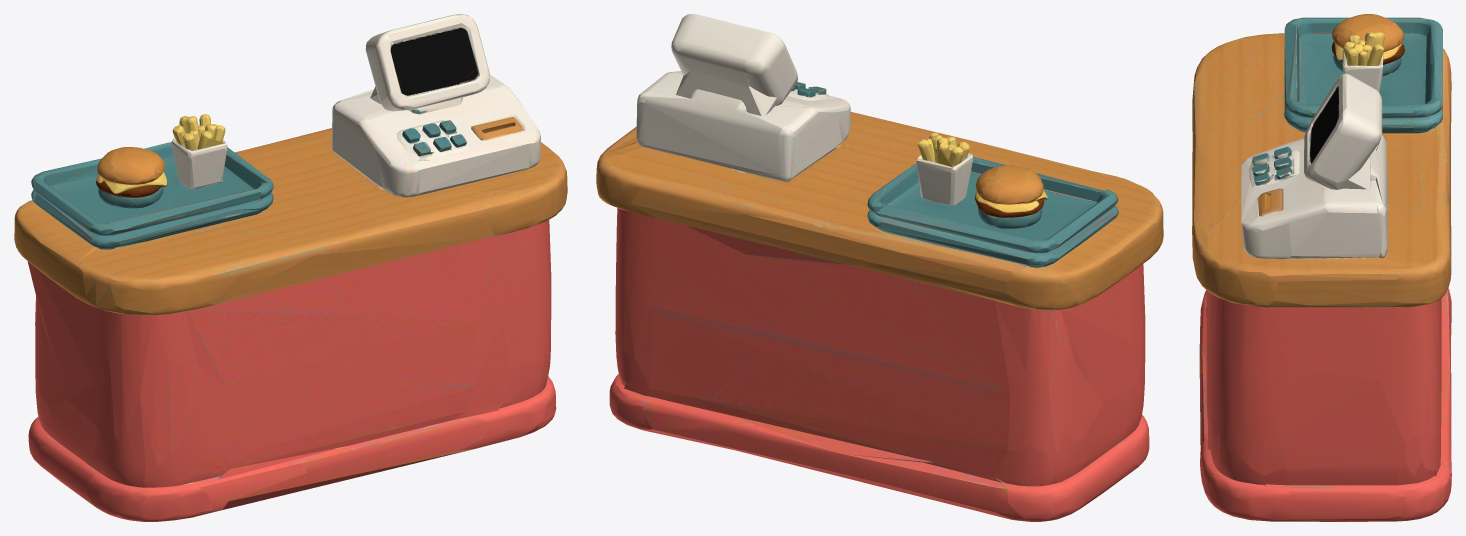
The model's file is rounded-restaurant-service-counter-trays-ready.glb.
3 renders of one model, left to right at view 1: azimuth 30°, elevation 25°; view 2: azimuth 150°, elevation 25°; view 3: azimuth 270°, elevation 25°, orthographic. The views are drawn at different scales.
Visible parts, largest first — view 1: Mesh_0; view 2: Mesh_0; view 3: Mesh_0.
Boxes of the visible parts, x1,y1,x2,y2 form: Mesh_0: (14, 14, 567, 521); Mesh_0: (596, 14, 1163, 521); Mesh_0: (1192, 14, 1451, 521).
Size of the model in its own units: 1.4 by 1.04 by 0.6322.
1 material, 1 textured.
